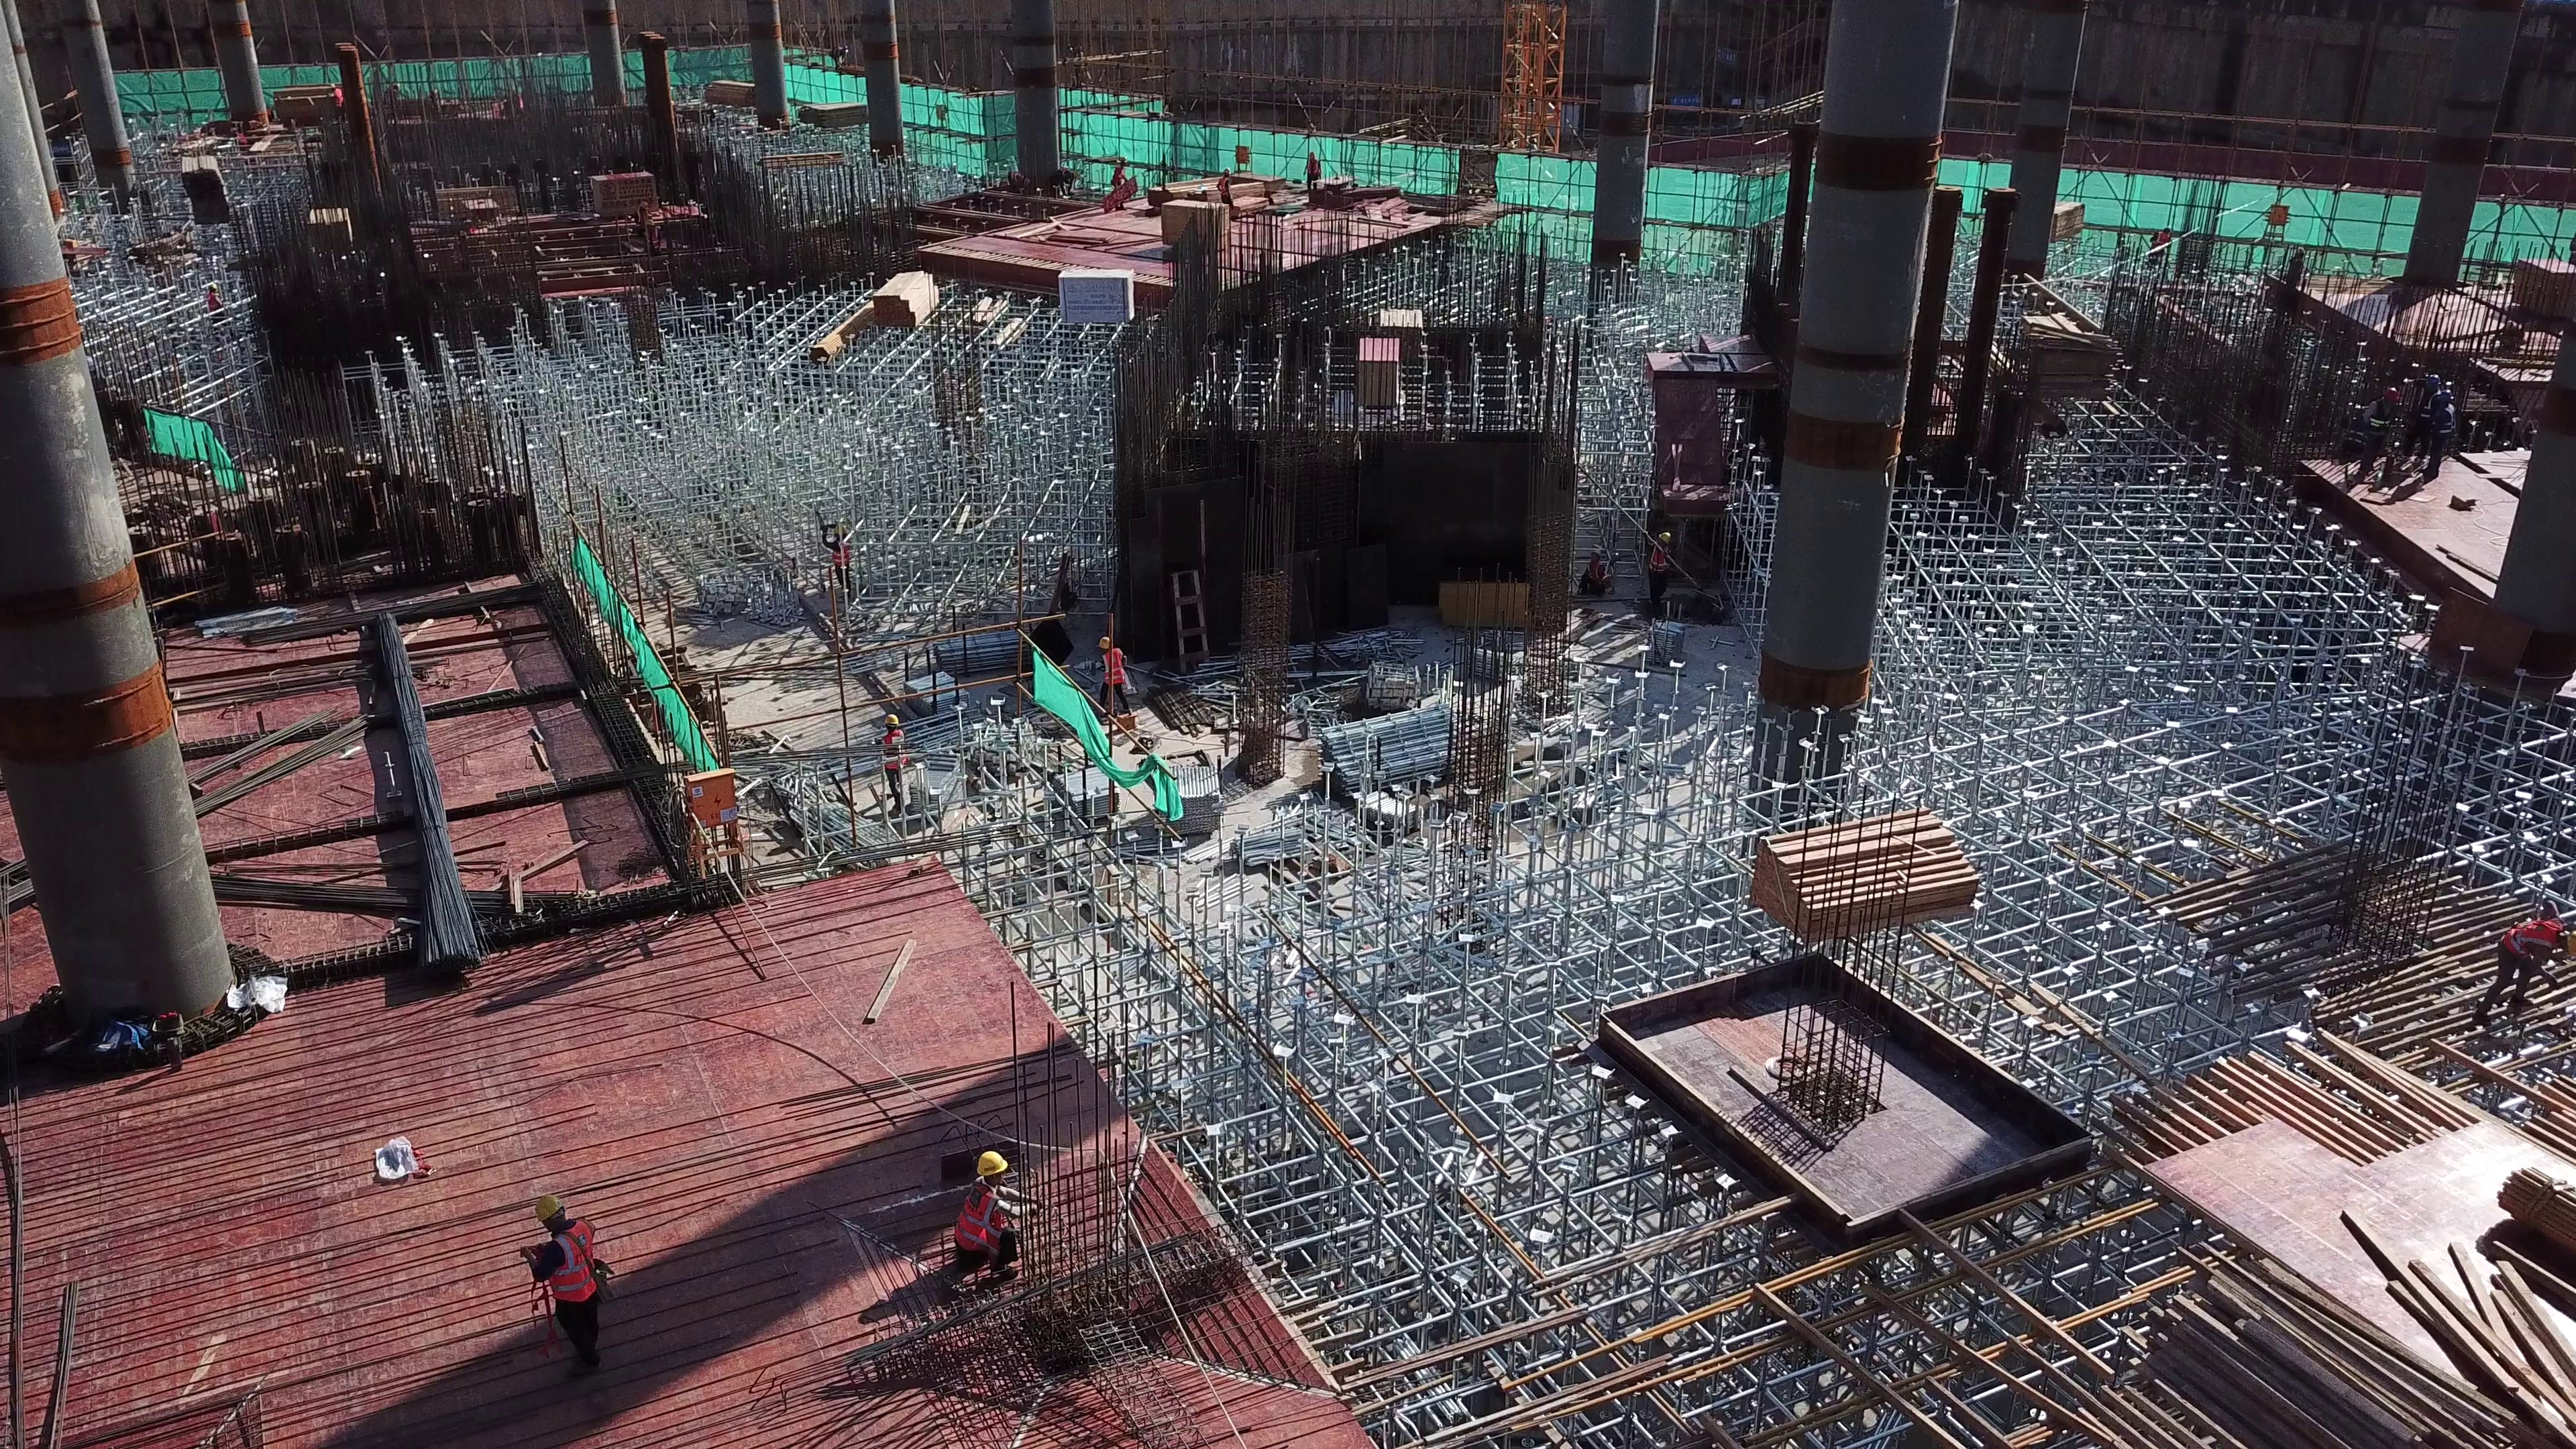board: (2151, 1125, 2530, 1317), (1361, 337, 1404, 400)
ebox: (667, 767, 741, 881), (1232, 142, 1256, 168), (2265, 201, 2285, 236)
helmet: (970, 1148, 1006, 1183), (533, 1197, 568, 1220), (2433, 387, 2455, 405), (2381, 388, 2400, 402), (1094, 636, 1111, 649), (2425, 375, 2441, 389), (1660, 531, 1672, 543), (885, 714, 896, 725)
person: (511, 1201, 612, 1386), (942, 1151, 1033, 1300), (2479, 916, 2576, 1042), (873, 718, 911, 814), (1095, 635, 1128, 713), (1641, 527, 1670, 609), (1581, 550, 1611, 600), (1109, 156, 1130, 212), (1305, 152, 1322, 195), (1217, 172, 1234, 215)
rebar: (363, 614, 476, 984)
scaffold: (1328, 720, 1454, 791), (1160, 763, 1237, 837), (934, 631, 1021, 671), (1256, 814, 1346, 852), (1360, 788, 1417, 839), (908, 671, 953, 716), (1648, 621, 1681, 667), (1464, 647, 1506, 680)
vest: (536, 1226, 597, 1309), (947, 1193, 1018, 1261), (2499, 917, 2552, 960), (879, 729, 908, 771), (1099, 649, 1124, 687), (2369, 401, 2394, 433), (1647, 546, 1667, 578), (1587, 566, 1609, 585), (1217, 180, 1232, 202), (1307, 159, 1322, 178)
wood: (1743, 814, 1982, 929), (873, 268, 945, 335)
